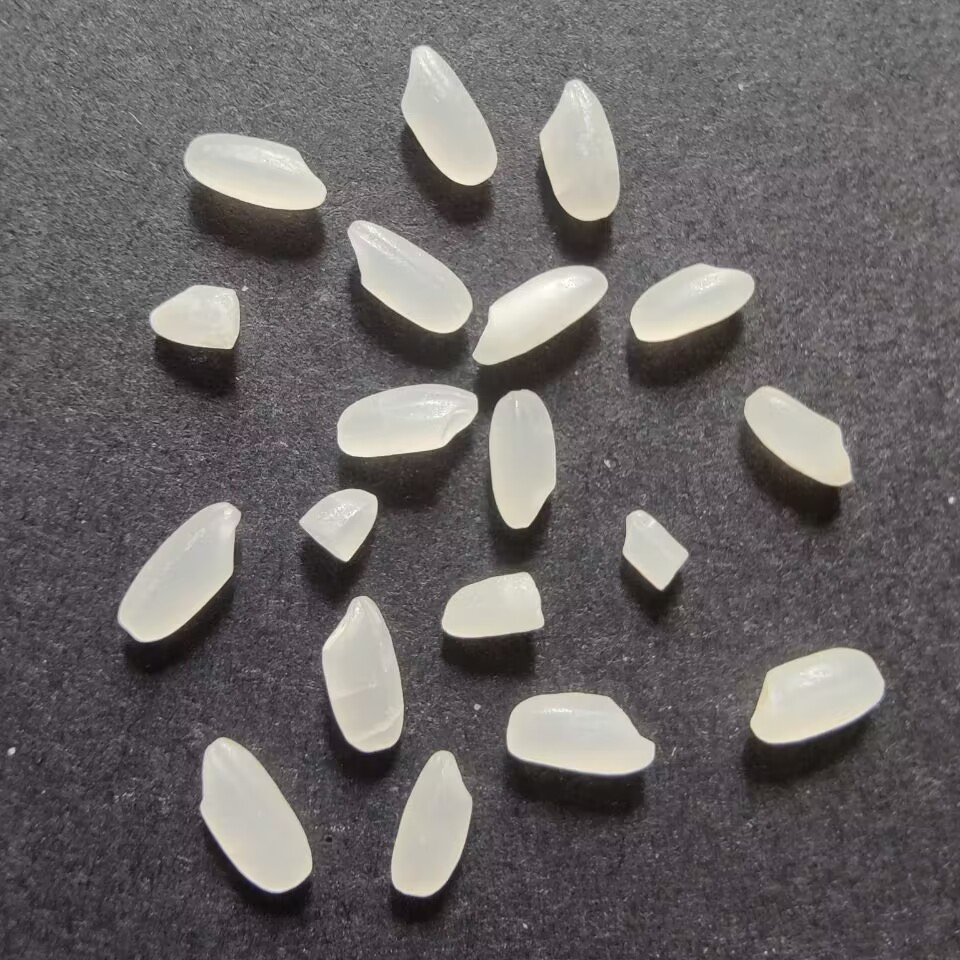broken: (433, 568, 548, 642), (142, 278, 246, 354), (294, 484, 380, 566), (610, 508, 689, 596)
rice: (196, 733, 319, 897), (110, 497, 243, 644), (340, 217, 478, 341), (396, 39, 505, 192), (466, 259, 610, 370), (385, 744, 482, 901), (318, 593, 410, 756), (745, 647, 889, 750), (504, 690, 661, 783), (535, 76, 625, 226), (180, 128, 332, 215), (740, 382, 859, 492), (329, 379, 479, 460), (626, 261, 761, 348), (484, 388, 562, 537)
